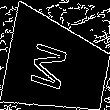M_E: (34, 38, 80, 95)
